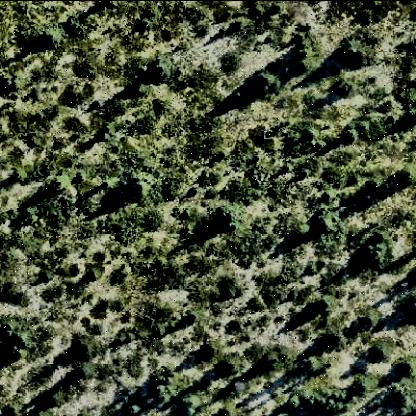tree-top: (337, 34, 375, 70), (149, 369, 183, 407), (250, 67, 282, 100), (291, 38, 322, 72), (1, 320, 31, 355), (123, 171, 155, 203), (314, 384, 348, 414), (360, 239, 392, 269), (217, 352, 249, 382), (214, 204, 244, 232), (312, 208, 340, 238), (389, 384, 416, 415), (69, 332, 96, 361), (259, 348, 285, 378), (148, 58, 175, 85), (321, 325, 347, 352), (311, 294, 336, 320), (63, 12, 90, 36), (333, 76, 359, 100), (38, 27, 63, 51), (352, 374, 375, 399), (394, 163, 416, 188), (281, 390, 306, 412), (361, 308, 383, 332), (3, 72, 25, 96), (300, 353, 323, 375), (42, 389, 64, 412), (175, 396, 200, 416), (199, 338, 221, 360), (47, 172, 68, 194), (397, 355, 416, 379), (130, 77, 152, 97), (75, 360, 98, 378), (13, 165, 31, 185), (184, 306, 202, 326), (2, 400, 23, 416), (126, 398, 144, 416), (341, 129, 357, 146), (137, 17, 155, 31)
